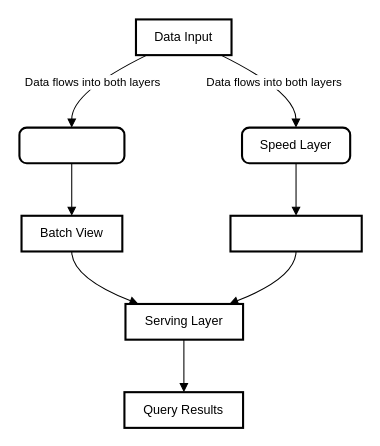
Some shapes in this 380 by 446 pixel diagram are drawn without their labels. Each missing label, with the box of its shape:
Batch Layer: (18, 126, 125, 164)
Real-time View: (229, 214, 362, 252)
